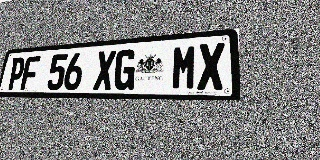5: (46, 54, 68, 90)
6: (63, 53, 85, 90)
F: (20, 56, 41, 90)
G: (113, 49, 137, 90)
M: (171, 44, 197, 90)
P: (6, 57, 26, 90)
X: (197, 42, 225, 90), (93, 50, 116, 90)
